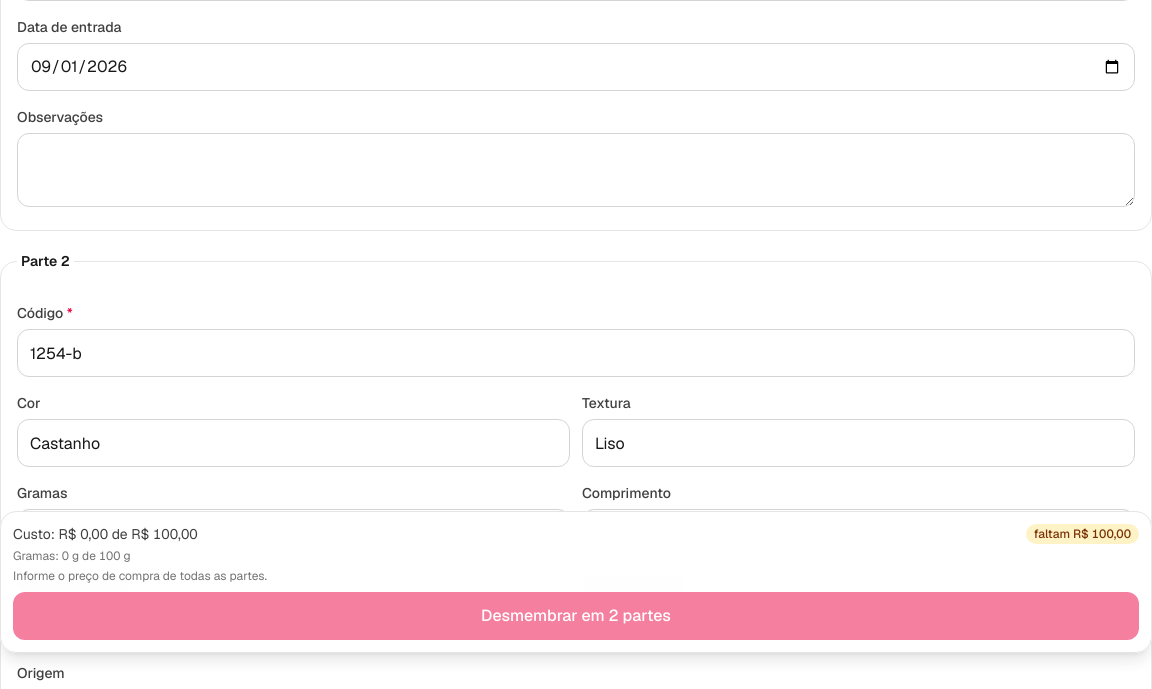
FormularioDesmembrar › avisa código repetido entre as partes
This screenshot has width=1152, height=689.
(page scrolled)
Replace the text in the field labelled "Código *" with " 1254-A " at coordinates (576, 353), box [17, 329, 1135, 377]
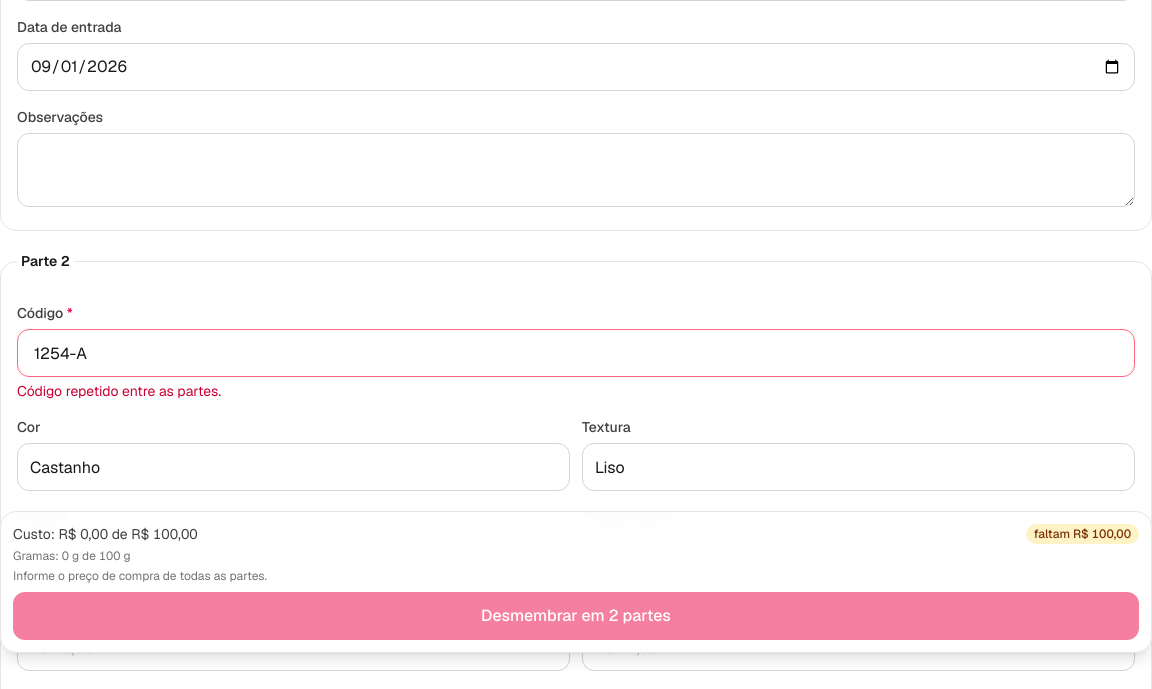
Result: the text "Código repetido entre as partes." is shown at [17, 382, 221, 400]
